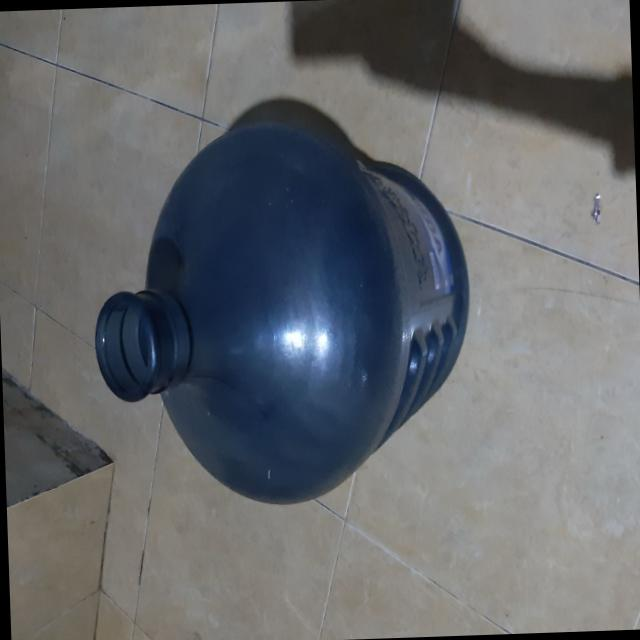Galon: (85, 90, 478, 512)
